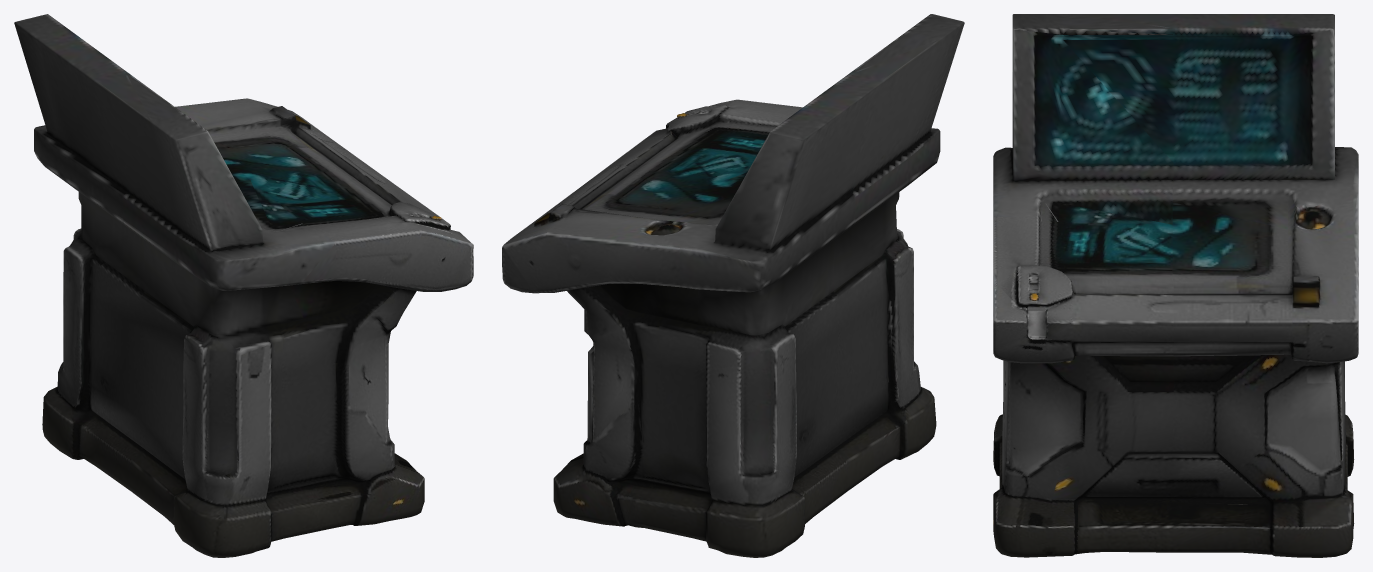
The model's file is prop_lab_terminal.glb.
3 views of the same model, side by side, from view 1: azimuth 30°, elevation 25°; view 2: azimuth 150°, elevation 25°; view 3: azimuth 270°, elevation 25° (orthographic).
Parts seen in each view (by area): view 1: tripo_node_cd0504c8-d5cd-4d72-9c28-bed58262b2c2; view 2: tripo_node_cd0504c8-d5cd-4d72-9c28-bed58262b2c2; view 3: tripo_node_cd0504c8-d5cd-4d72-9c28-bed58262b2c2.
Boxes of the visible parts, x1,y1,x2,y2 form: tripo_node_cd0504c8-d5cd-4d72-9c28-bed58262b2c2: [14, 14, 473, 557]; tripo_node_cd0504c8-d5cd-4d72-9c28-bed58262b2c2: [502, 14, 964, 557]; tripo_node_cd0504c8-d5cd-4d72-9c28-bed58262b2c2: [993, 14, 1358, 557].
Bounding box in the file's own units: 0.7129 × 0.998 × 0.7754.
Materials: 1 (1 with a texture image).
